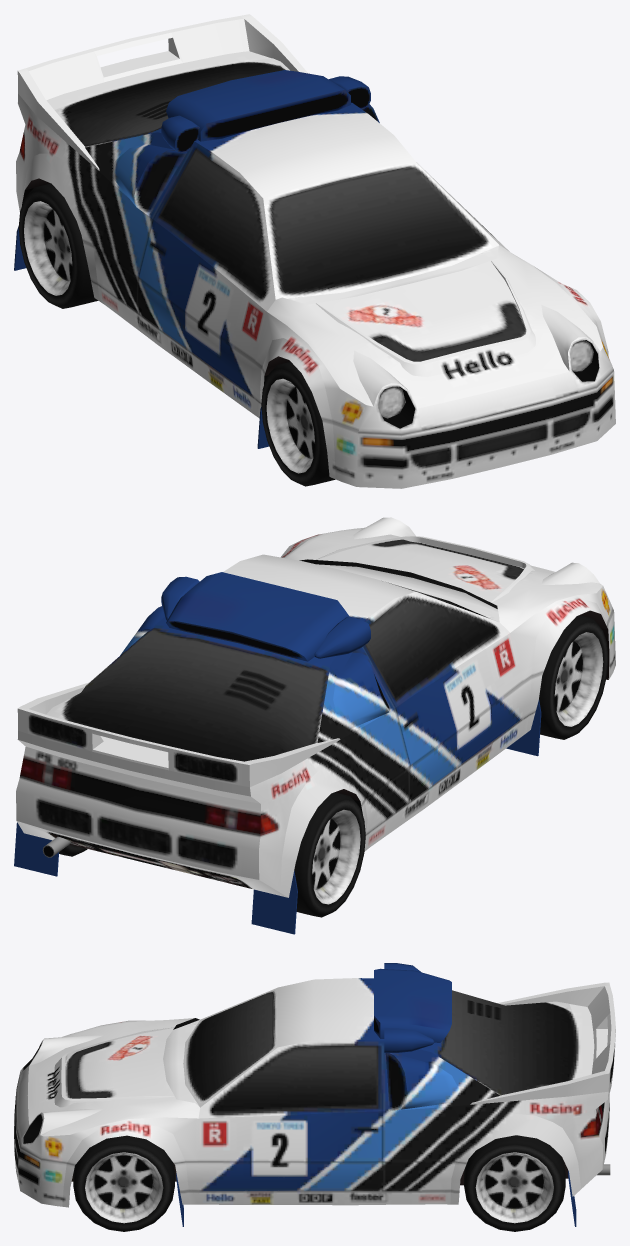
Rendered from Ford RS200.fbx.
3 renders of one model, top to bottom at view 1: azimuth 30°, elevation 25°; view 2: azimuth 150°, elevation 25°; view 3: azimuth 270°, elevation 25°, orthographic. The views are drawn at different scales.
Parts seen in each view (by area): view 1: Ford RS200, L_front_wheel_geo #370591.002, L_front_wheel_geo #370591.003; view 2: Ford RS200, L_front_wheel_geo #370591.002, L_front_wheel_geo #370591.003; view 3: Ford RS200, L_front_wheel_geo #370591.001, L_front_wheel_geo #370591.
Part boxes in pixels (x1,y1,x2,y2): Ford RS200: (14, 14, 615, 488); L_front_wheel_geo #370591.002: (18, 183, 98, 308); L_front_wheel_geo #370591.003: (261, 361, 335, 486); Ford RS200: (14, 517, 615, 934); L_front_wheel_geo #370591.002: (294, 792, 365, 917); L_front_wheel_geo #370591.003: (539, 615, 608, 739); Ford RS200: (14, 963, 615, 1226); L_front_wheel_geo #370591.001: (464, 1135, 565, 1231); L_front_wheel_geo #370591: (73, 1135, 174, 1231).
Size of the model in its own units: 180 by 137 by 404.
5 materials, 5 textured.
